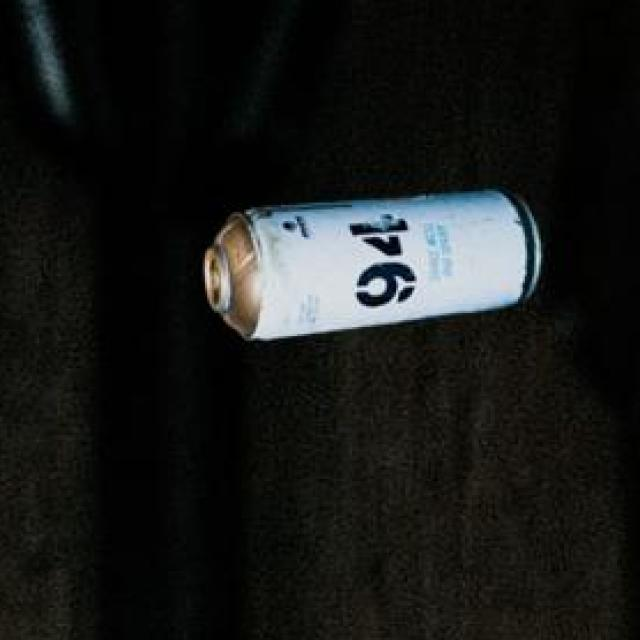logam: (201, 185, 540, 335)
